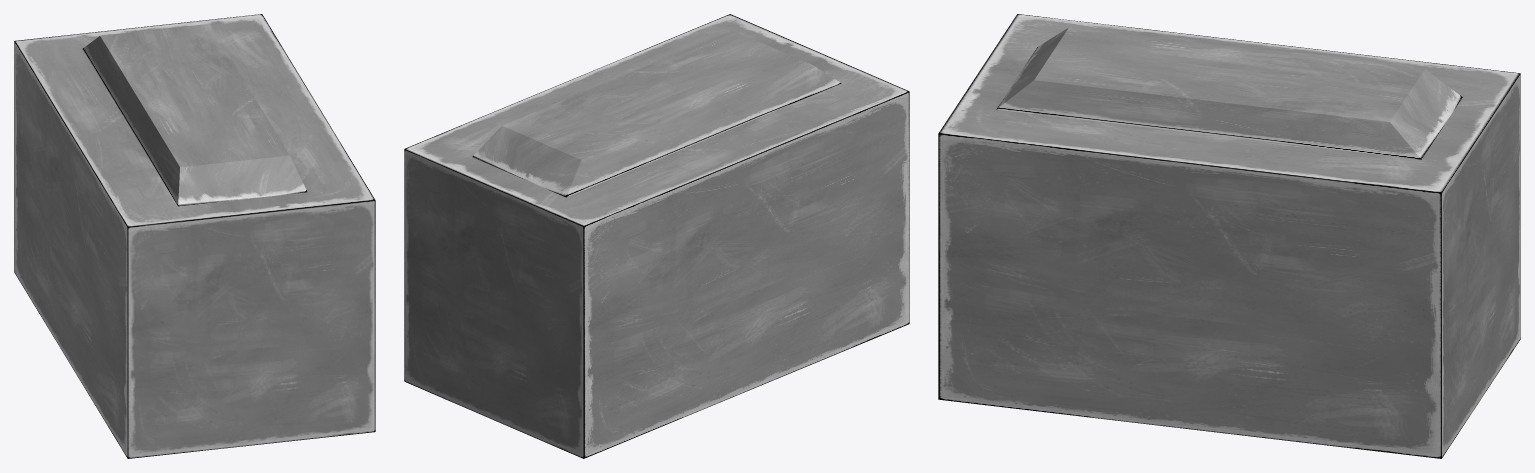
File: SM_CraneBlock_01.fbx
3 views of the same model, side by side, from view 1: azimuth 30°, elevation 25°; view 2: azimuth 150°, elevation 25°; view 3: azimuth 270°, elevation 25° (orthographic). The views are drawn at different scales.
Parts seen in each view (by area): view 1: SM_CraneBlock_01; view 2: SM_CraneBlock_01; view 3: SM_CraneBlock_01.
Part boxes in pixels (x1,y1,x2,y2): SM_CraneBlock_01: (14, 14, 375, 458); SM_CraneBlock_01: (404, 14, 909, 458); SM_CraneBlock_01: (938, 14, 1520, 458).
Bounding box in the file's own units: 489 × 376 × 673.
